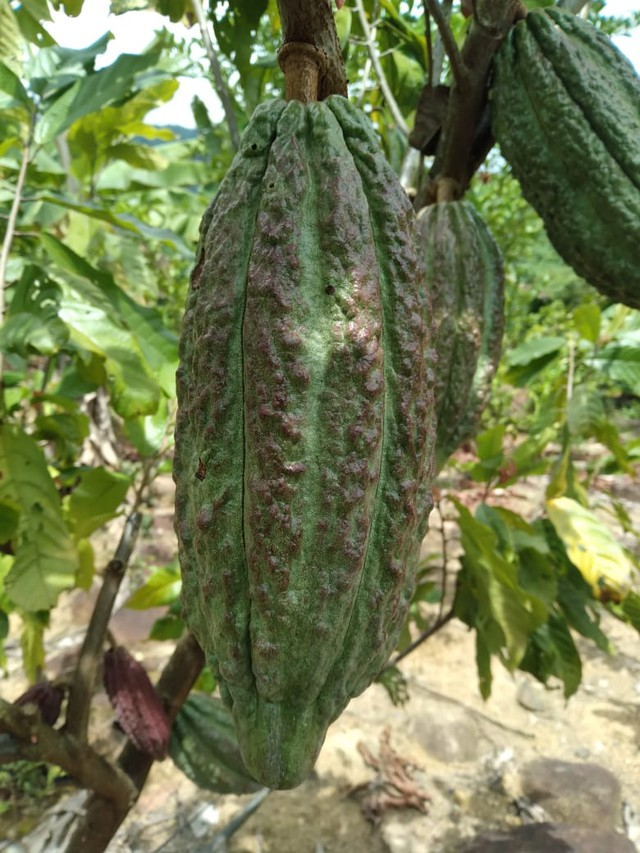Health: (163, 52, 464, 811)
